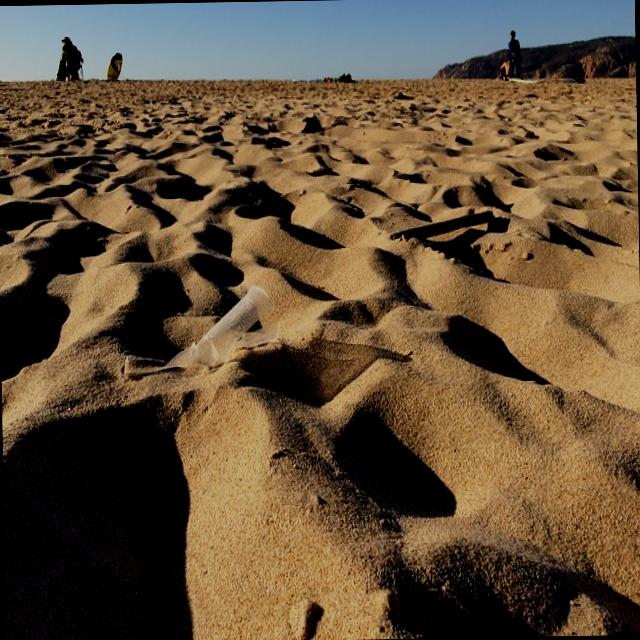Recycle: (203, 289, 277, 362)
